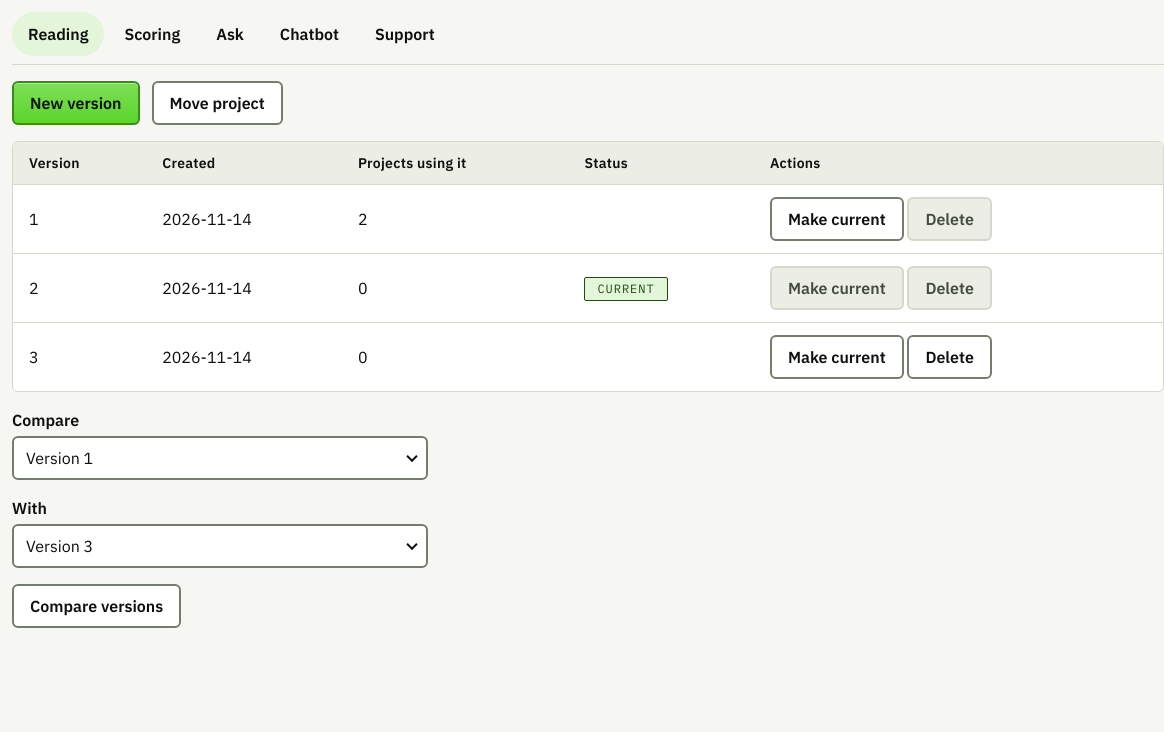
Test: prompt versions list › shows the other kind on its own tab
Expected: the element named "Reading versions" is shown, [12,141,1163,392]
Click the tab "Scoring".
click(152, 34)  # box [108,12,196,56]
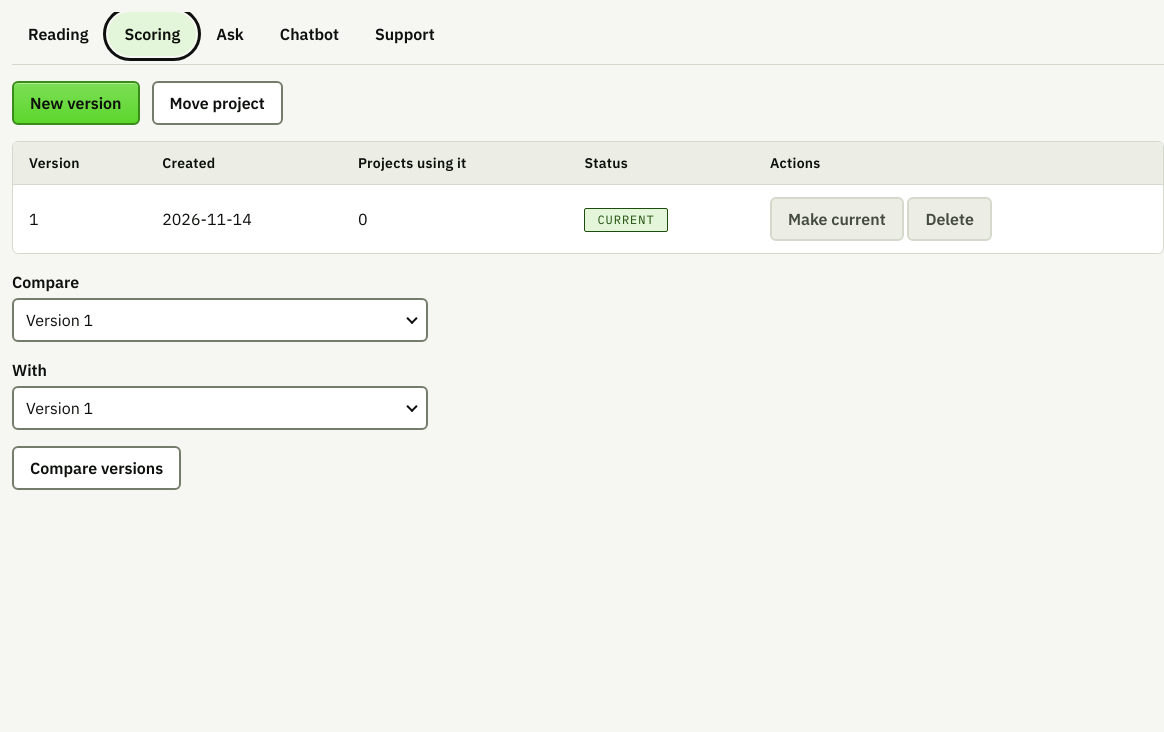
Expected: the number of rows is 2, [13,142,1163,184]; [13,184,1163,253]
